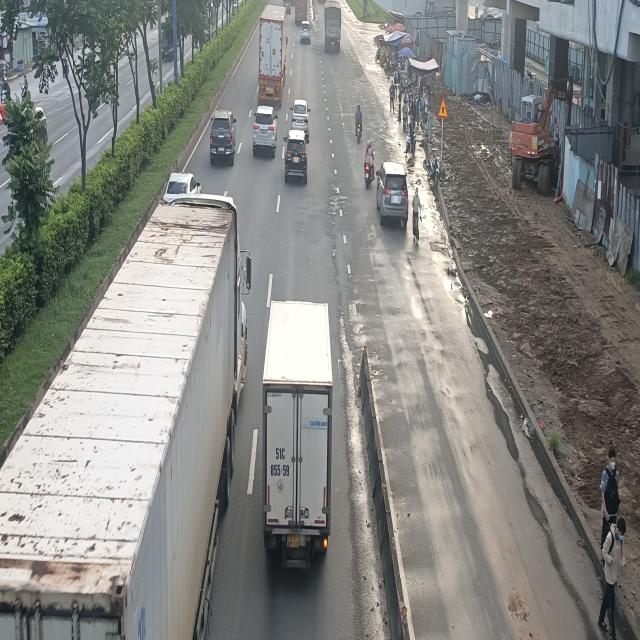car: (375, 161, 411, 225), (208, 111, 236, 167), (251, 105, 278, 157), (283, 129, 308, 184)
container: (3, 194, 247, 638), (260, 5, 288, 104)
truck: (258, 296, 334, 566), (323, 0, 342, 55)
